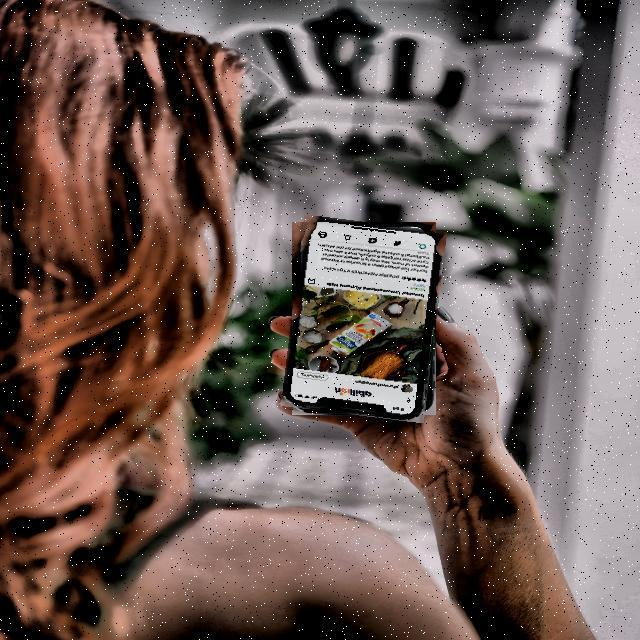Phone: (287, 218, 442, 419)
